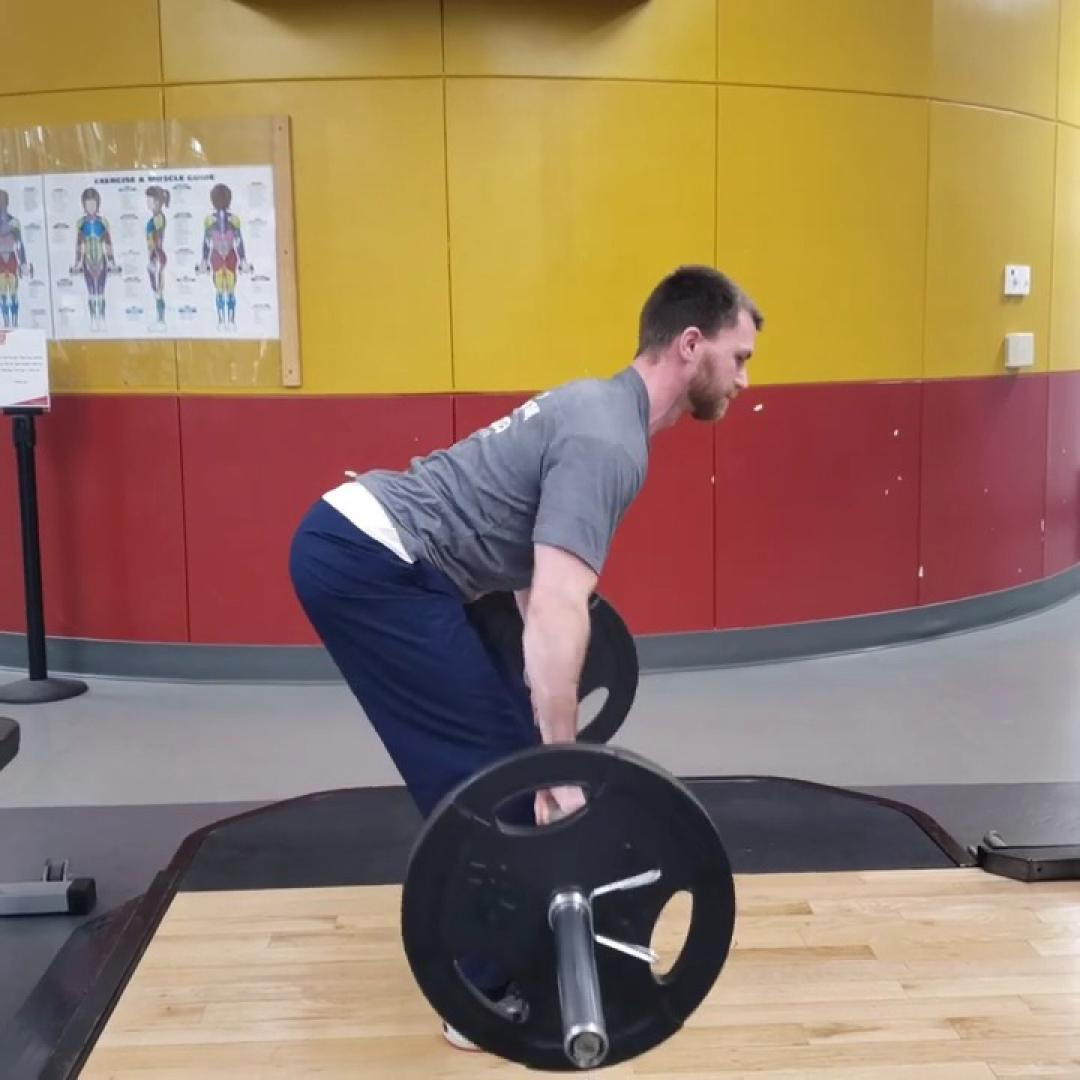Bar: (562, 1021, 610, 1071)
Barbell: (402, 750, 735, 1072)
